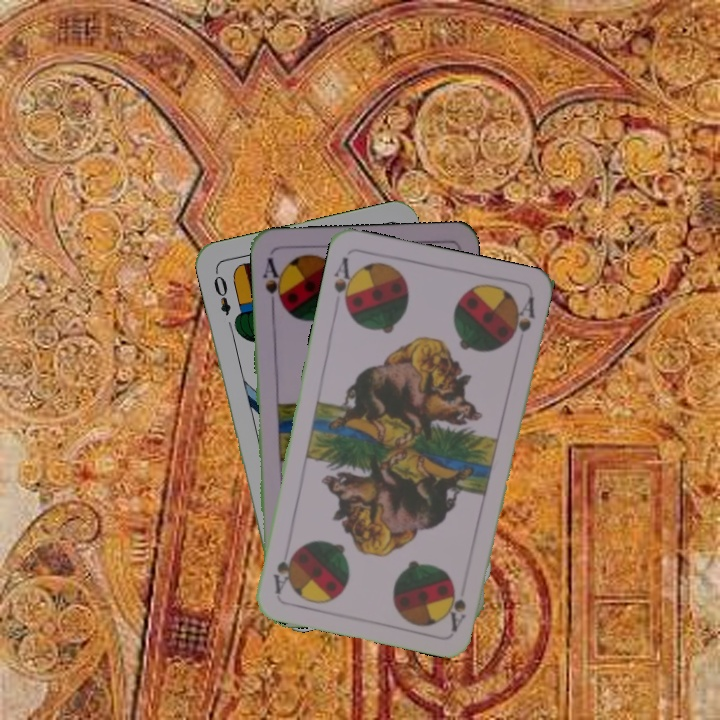EO: (209, 267, 233, 318)
SA: (330, 253, 359, 313), (259, 253, 286, 312), (446, 594, 469, 633)
